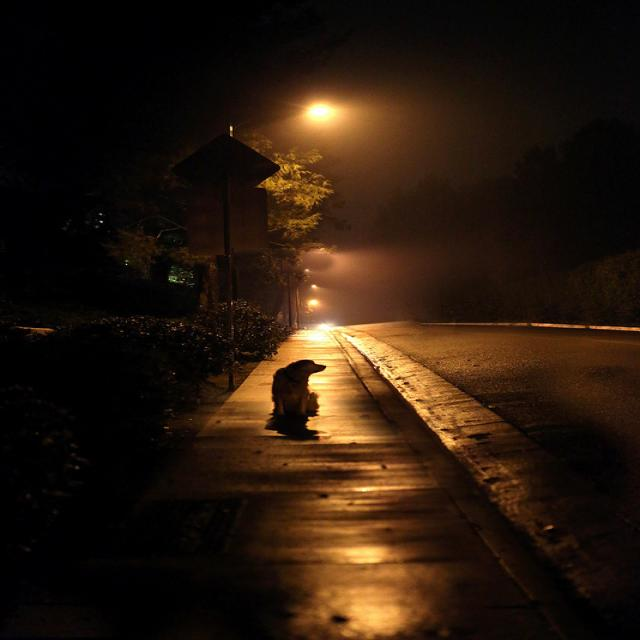dog: (238, 321, 390, 468)
